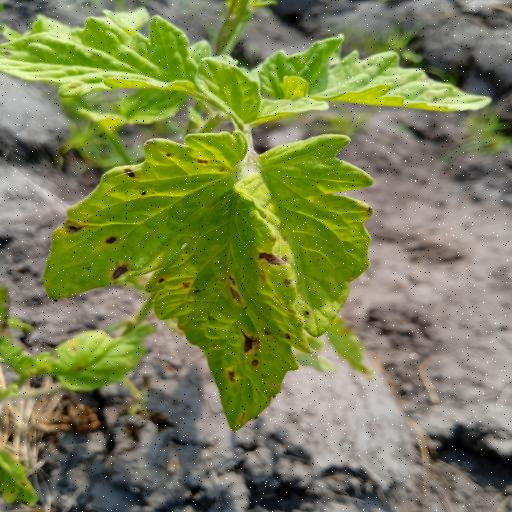Tomato_Brown_Spots: (28, 121, 395, 437)
